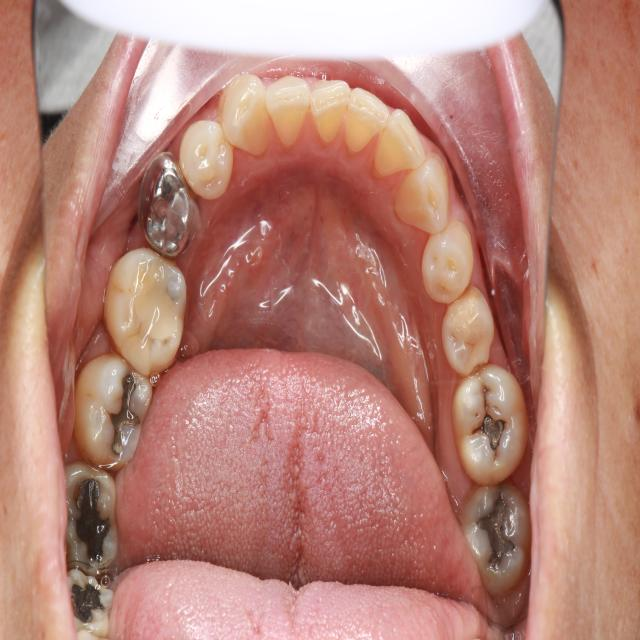tooth: (103, 244, 194, 385), (67, 350, 162, 481), (445, 351, 532, 494), (450, 467, 534, 600), (59, 450, 132, 580), (131, 153, 205, 258), (365, 89, 435, 194), (414, 211, 482, 310), (438, 270, 497, 383), (219, 71, 284, 172), (396, 141, 454, 250), (179, 114, 244, 211), (339, 70, 396, 176), (260, 63, 315, 163), (303, 66, 360, 159)
